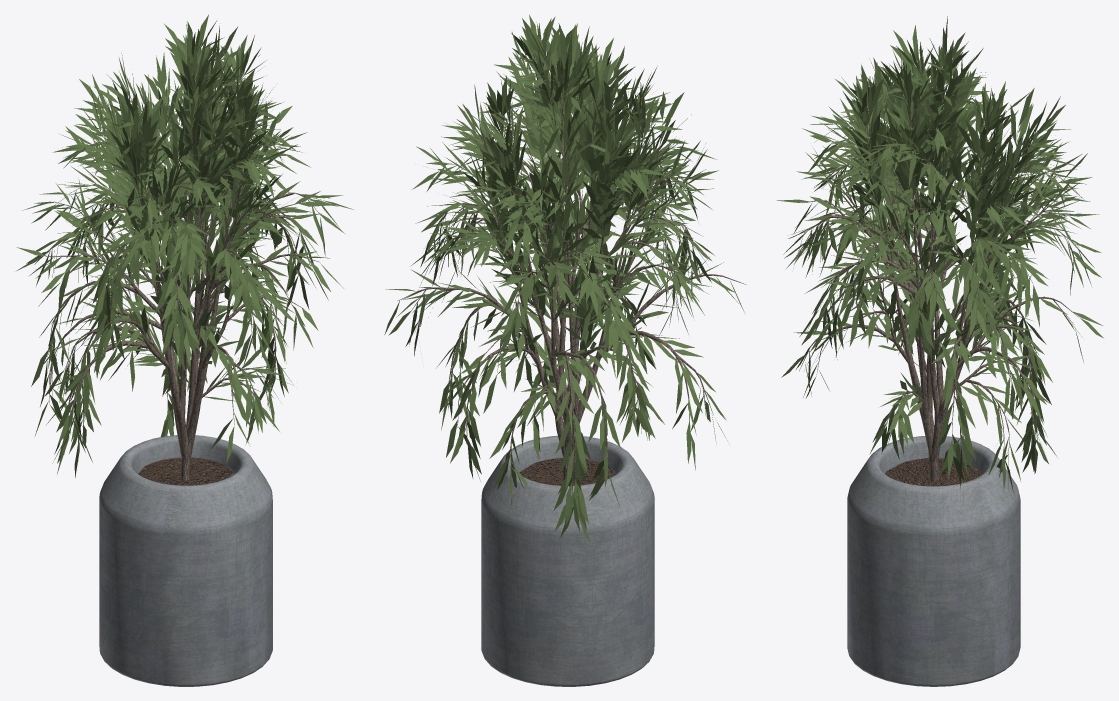
Rendered from potted_tree_01.glb.
3 renders of one model, left to right at view 1: azimuth 30°, elevation 25°; view 2: azimuth 150°, elevation 25°; view 3: azimuth 270°, elevation 25°, orthographic.
Visible parts, largest first — view 1: Cylinder_Leaves_0, Cylinder_PotMaterial_0, tree_Trunk_0, Cylinder_DirtMat_0; view 2: Cylinder_Leaves_0, Cylinder_PotMaterial_0, tree_Trunk_0, Cylinder_DirtMat_0; view 3: Cylinder_Leaves_0, Cylinder_PotMaterial_0, tree_Trunk_0, Cylinder_DirtMat_0.
Part boxes in pixels (box(x1,y1,x2,y2)): Cylinder_Leaves_0: box(16, 14, 353, 477); Cylinder_PotMaterial_0: box(99, 435, 272, 686); tree_Trunk_0: box(46, 51, 321, 480); Cylinder_DirtMat_0: box(138, 458, 234, 485); Cylinder_Leaves_0: box(384, 14, 744, 542); Cylinder_PotMaterial_0: box(481, 435, 654, 686); tree_Trunk_0: box(398, 54, 746, 504); Cylinder_DirtMat_0: box(519, 458, 615, 485); Cylinder_Leaves_0: box(776, 16, 1103, 492); Cylinder_PotMaterial_0: box(847, 436, 1020, 686); tree_Trunk_0: box(799, 71, 1079, 488); Cylinder_DirtMat_0: box(885, 458, 982, 486).
Size of the model in its own units: 3.73 by 7.92 by 3.8.
Materials: 4 (4 with a texture image).
